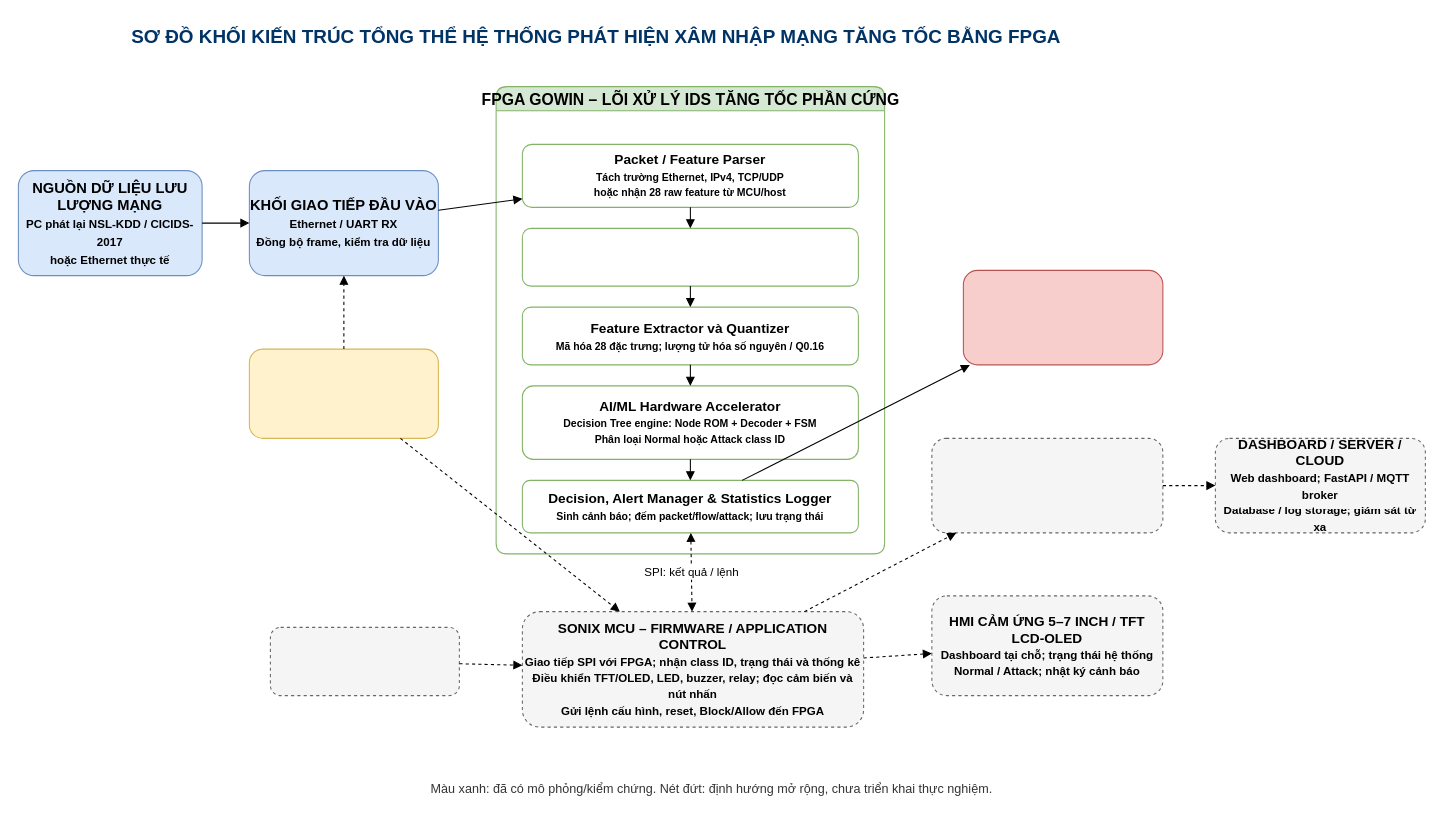
The diagram is 1444 pixels wide and 818 high, and some of its shapes have lost their labels. Here are the shapes that lost their labels. From the top down, the centre of each, then its label:
At point 689,256: "Flow Table / BRAM Manager Quản lý flow, packet count, byte count, timestamp".
At point 1062,317: "KHỐI CẢNH BÁO CỤC BỘ LED trạng thái; buzzer cảnh báo Relay mô phỏng Block/Allow".
At point 343,393: "KHỐI NGUỒN Nguồn vào 5 V; ổn áp 3.3 V Bảo vệ nguồn, lọc nhiễu".
At point 1047,485: "ESP32 IoT GATEWAY Wi-Fi / MQTT / HTTP Gửi log cảnh báo; kết nối server".
At point 364,661: "Cảm biến nhiệt độ / Tamper switch Giám sát điều kiện và can thiệp vật lý".
